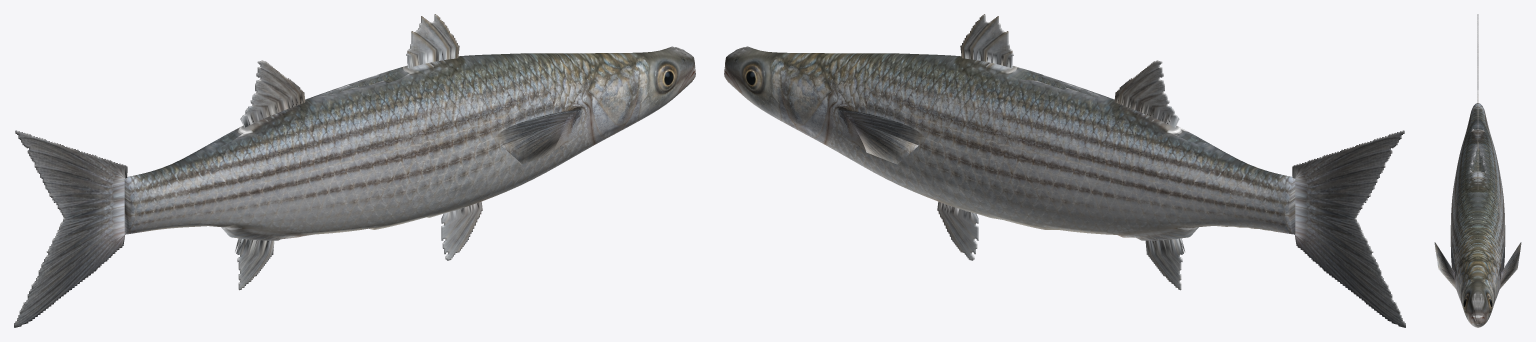
The model's file is harder.glb.
3 views of the same model, side by side, from view 1: azimuth 30°, elevation 25°; view 2: azimuth 150°, elevation 25°; view 3: azimuth 270°, elevation 25° (orthographic). The views are drawn at different scales.
Visible parts, largest first — view 1: harder_realistic; view 2: harder_realistic; view 3: harder_realistic.
Boxes of the visible parts, <box> form: harder_realistic: <box>14,14,695,327</box>; harder_realistic: <box>724,14,1405,327</box>; harder_realistic: <box>1434,14,1521,327</box>.
Bounding box in the file's own units: 0.998 × 0.3511 × 0.1577.
3 materials, 3 textured.
